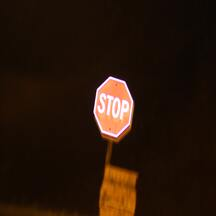Circle: (92, 74, 133, 141)
